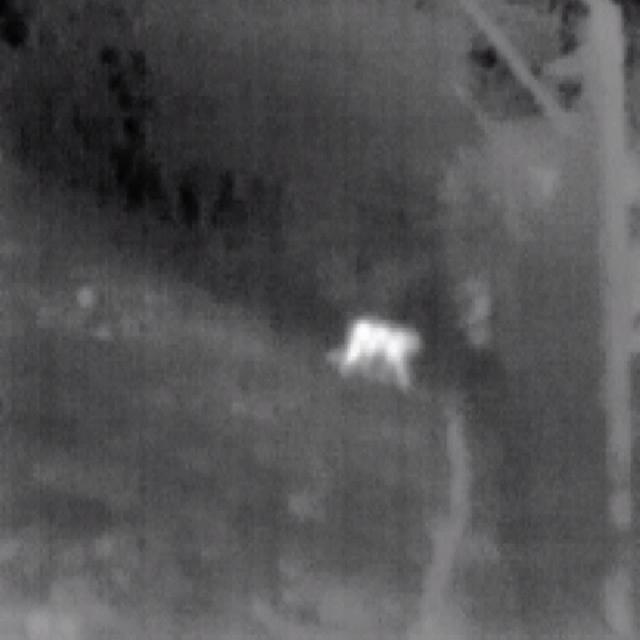cheetah: (327, 323, 423, 385)
